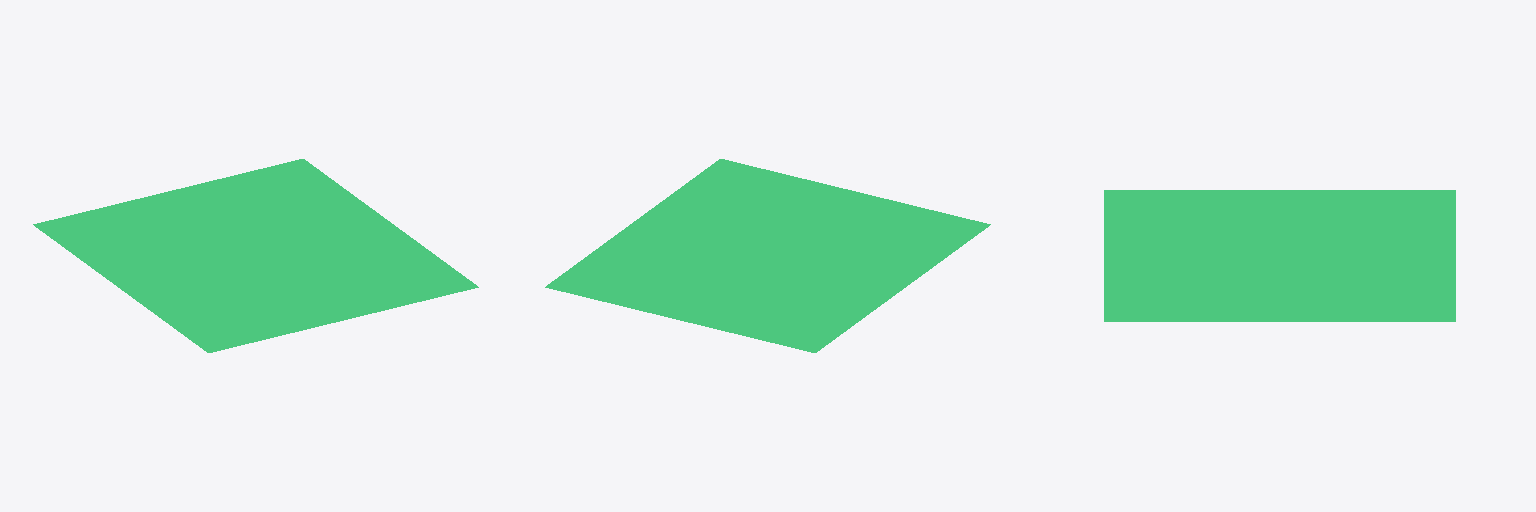
Rendered from map.obj.
3 views of the same model, side by side, from view 1: azimuth 30°, elevation 25°; view 2: azimuth 150°, elevation 25°; view 3: azimuth 270°, elevation 25° (orthographic).
Parts seen in each view (by area): view 1: Plane001; view 2: Plane001; view 3: Plane001.
Boxes of the visible parts, box(x1,y1,x2,y2) form: Plane001: box(33, 159, 478, 352); Plane001: box(545, 159, 990, 352); Plane001: box(1104, 190, 1455, 321).
Bounding box in the file's own units: 841 × 0 × 946.